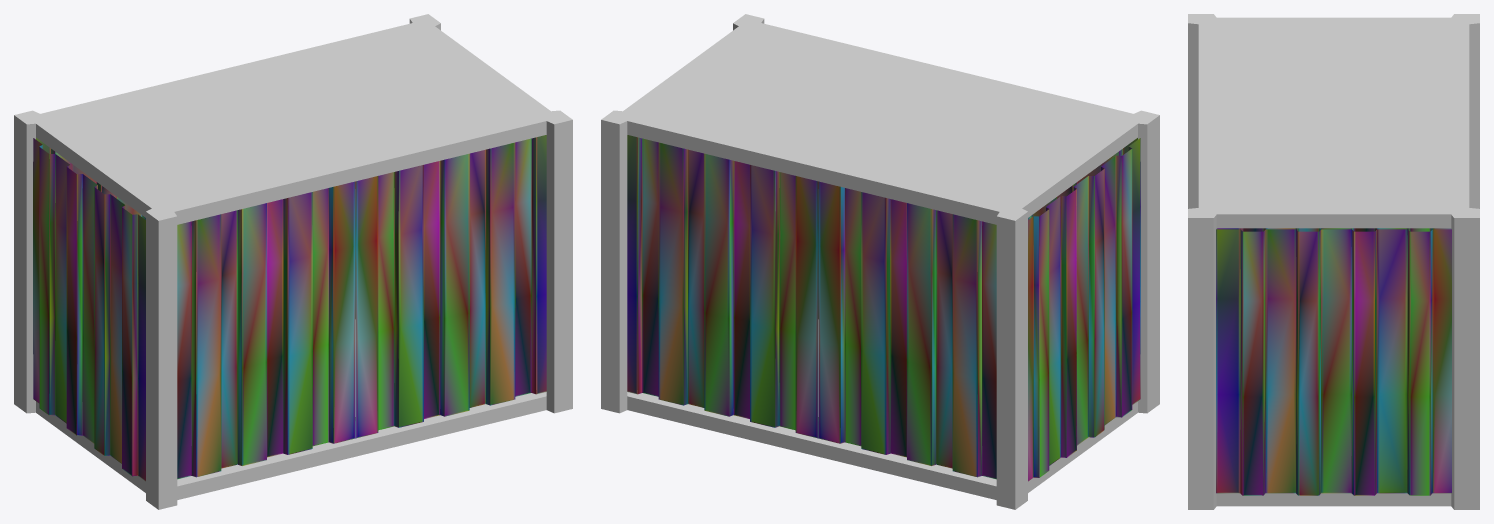
The model's file is Basic_Container.fbx.
3 views of the same model, side by side, from view 1: azimuth 30°, elevation 25°; view 2: azimuth 150°, elevation 25°; view 3: azimuth 270°, elevation 25° (orthographic).
Parts seen in each view (by area): view 1: Container_Back_MAT01_0_003, Basic_Container, Container_Back_MAT01_0_004; view 2: Container_Back_MAT01_0_003, Basic_Container, Container_Back_MAT01_0_004; view 3: Basic_Container, Container_Back_MAT01_0_004.
Part boxes in pixels (left/top/right/bottom): Container_Back_MAT01_0_003: left=36, top=135, right=546, bottom=479; Basic_Container: left=14, top=14, right=572, bottom=509; Container_Back_MAT01_0_004: left=33, top=138, right=145, bottom=481; Container_Back_MAT01_0_003: left=627, top=135, right=1137, bottom=479; Basic_Container: left=601, top=14, right=1159, bottom=509; Container_Back_MAT01_0_004: left=1028, top=138, right=1140, bottom=481; Basic_Container: left=1188, top=14, right=1479, bottom=509; Container_Back_MAT01_0_004: left=1216, top=228, right=1451, bottom=495.
Bounding box in the file's own units: 1200 × 800 × 725.
